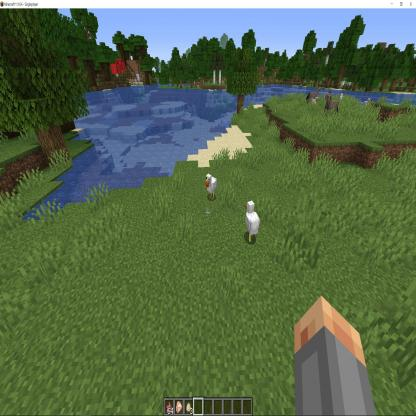minecraft-pigs: (186, 176, 228, 279), (190, 125, 204, 154)
